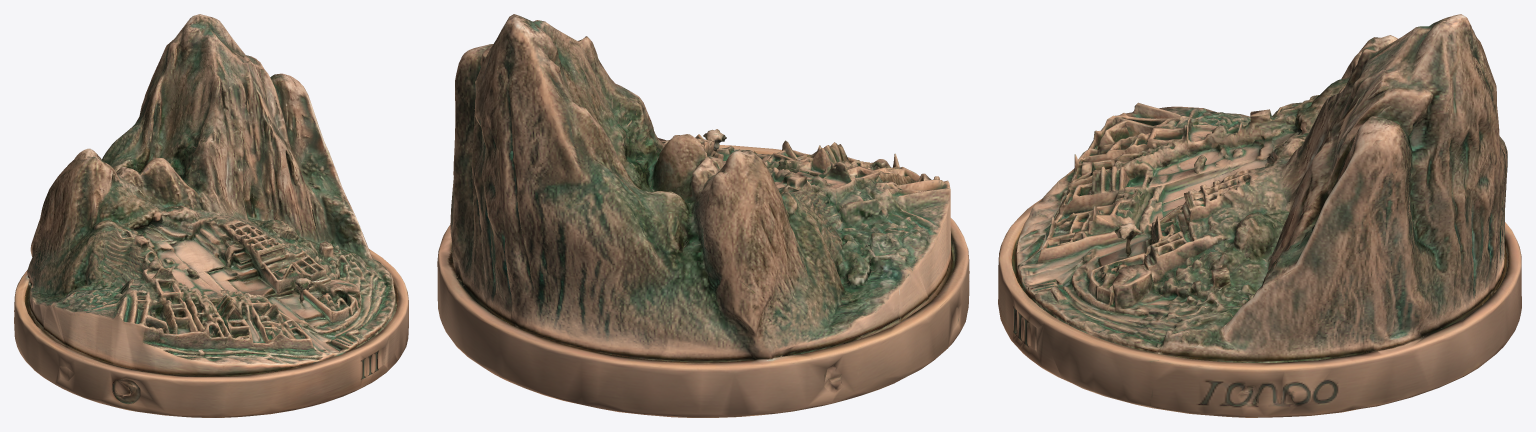
File: machu_picchu_diamond.glb
3 views of the same model, side by side, from view 1: azimuth 30°, elevation 25°; view 2: azimuth 150°, elevation 25°; view 3: azimuth 270°, elevation 25° (orthographic). The views are drawn at different scales.
Visible parts, largest first — view 1: Mesh_0; view 2: Mesh_0; view 3: Mesh_0.
Boxes of the visible parts, x1,y1,x2,y2 form: Mesh_0: (14,14,408,417); Mesh_0: (437,14,969,417); Mesh_0: (998,14,1521,417).
Size of the model in its own units: 1.91 by 1.58 by 1.91.
1 material, 1 textured.
